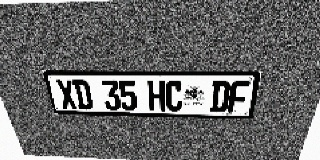3: (101, 80, 121, 110)
5: (118, 80, 138, 111)
C: (165, 80, 183, 111)
D: (72, 80, 94, 110), (210, 81, 231, 112)
F: (227, 81, 250, 113)
H: (147, 80, 165, 111)
X: (55, 80, 78, 109)
